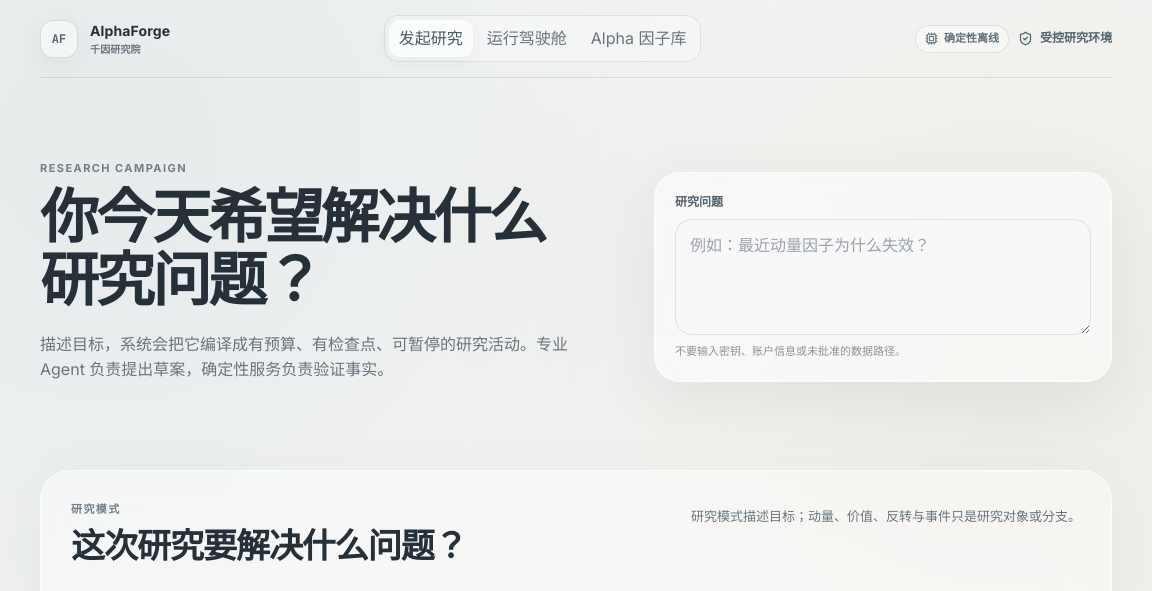
Test: AlphaForge 中文 Campaign 产品体验 › 显式传入的运行只展示 Router 选中的 Desk，并区分失败分支
Step 1. Click the button "运行驾驶舱" → click(527, 38), box [477, 20, 577, 57]
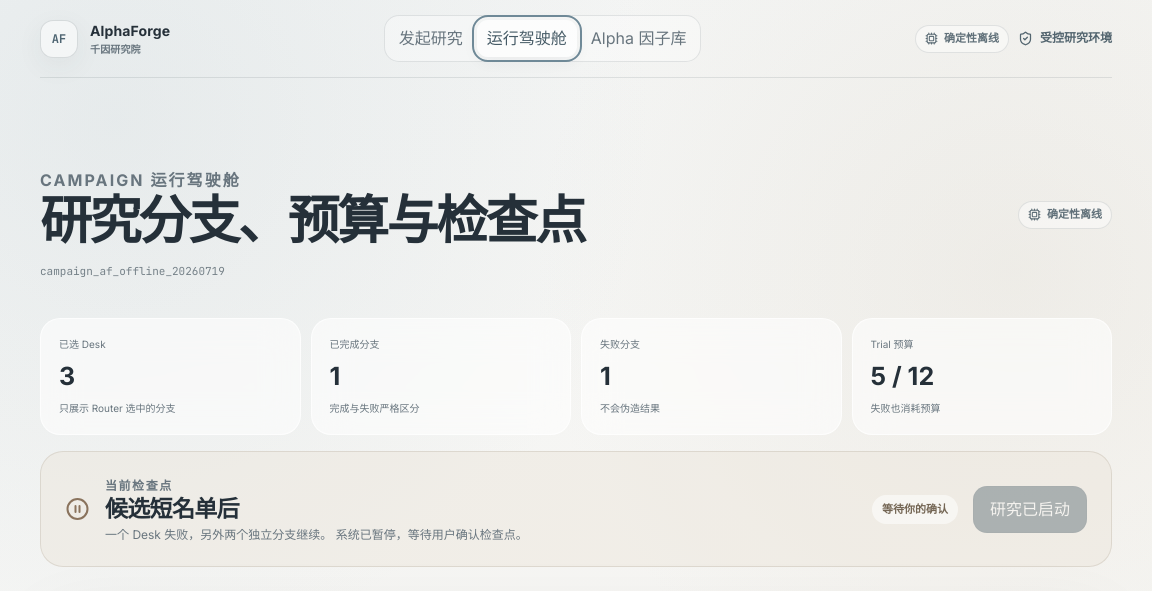
expect the text "失败分支" is shown: met, box [600, 338, 640, 350]
